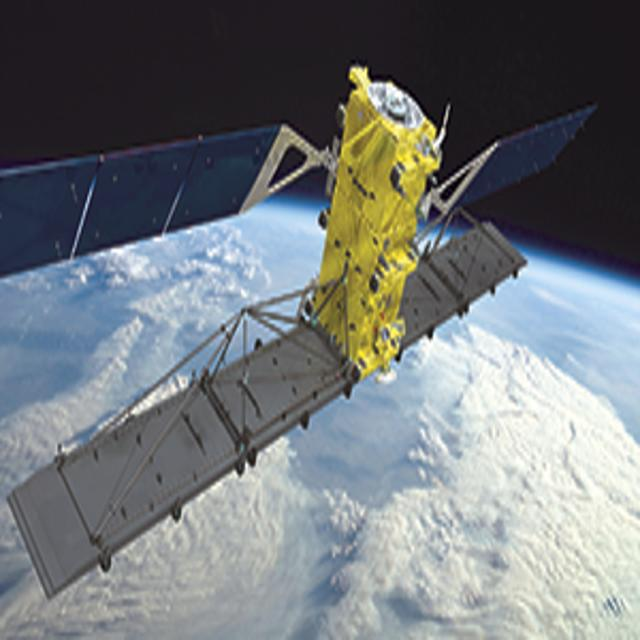medium_debris: (1, 26, 606, 608)
